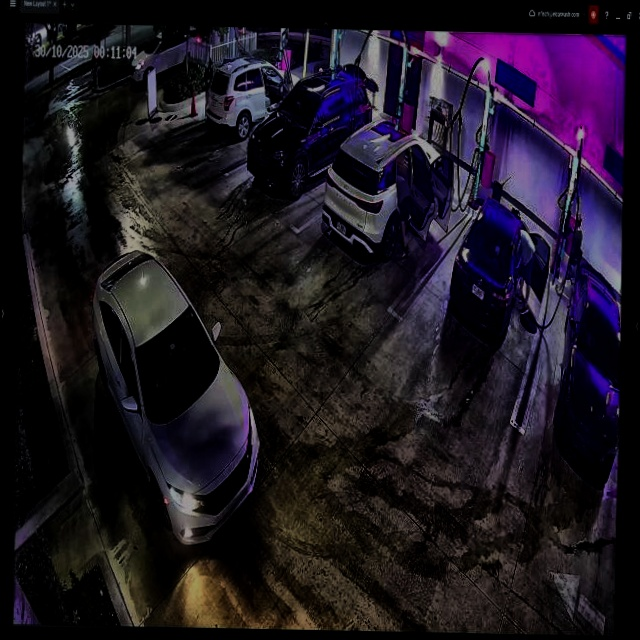Car: (85, 247, 266, 552), (326, 118, 454, 256), (251, 66, 372, 197), (449, 201, 547, 341)
